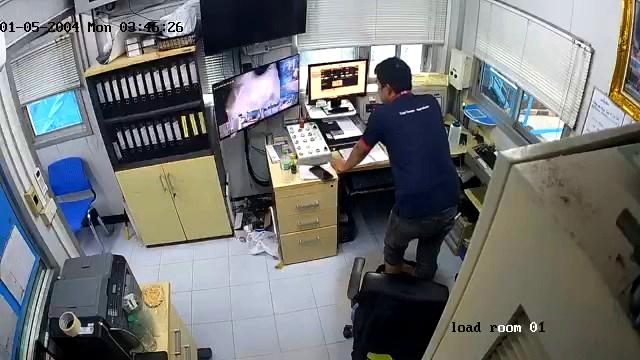Head: (375, 60, 414, 98)
People: (339, 60, 461, 275)
Phone: (309, 165, 334, 181)
